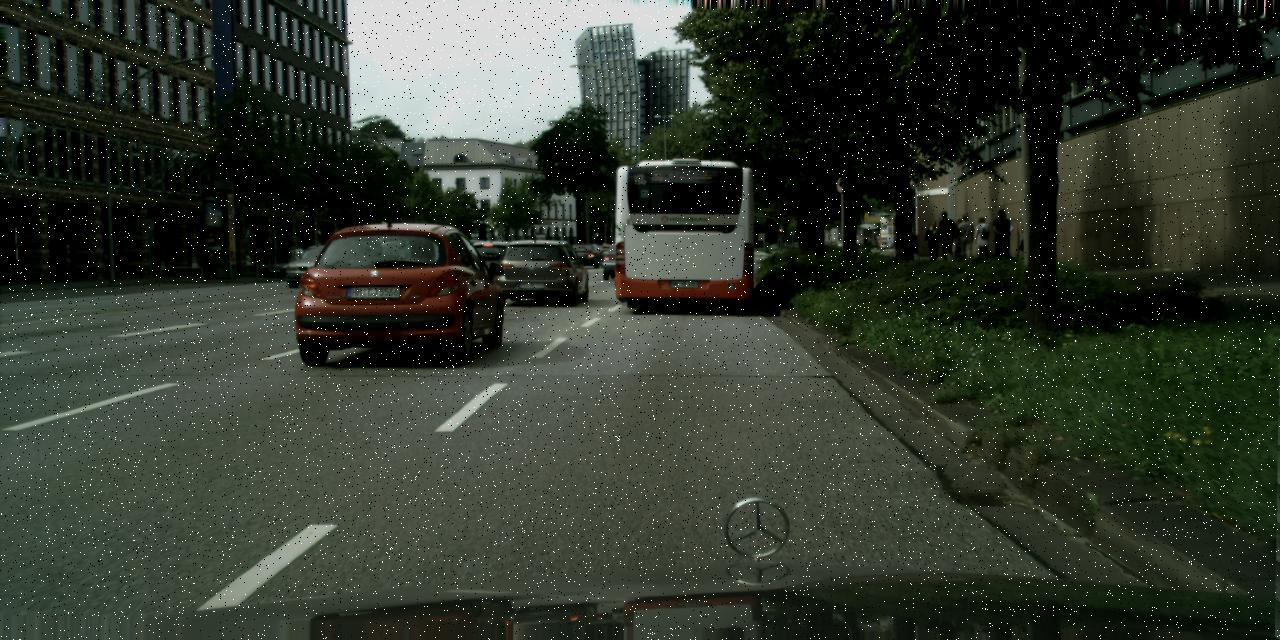ped: (990, 208, 1012, 263), (935, 210, 957, 264), (1017, 215, 1039, 269), (957, 213, 977, 261), (994, 211, 1013, 259), (925, 220, 943, 262), (952, 218, 968, 260), (974, 216, 990, 258), (56, 245, 68, 278), (858, 234, 868, 243)
